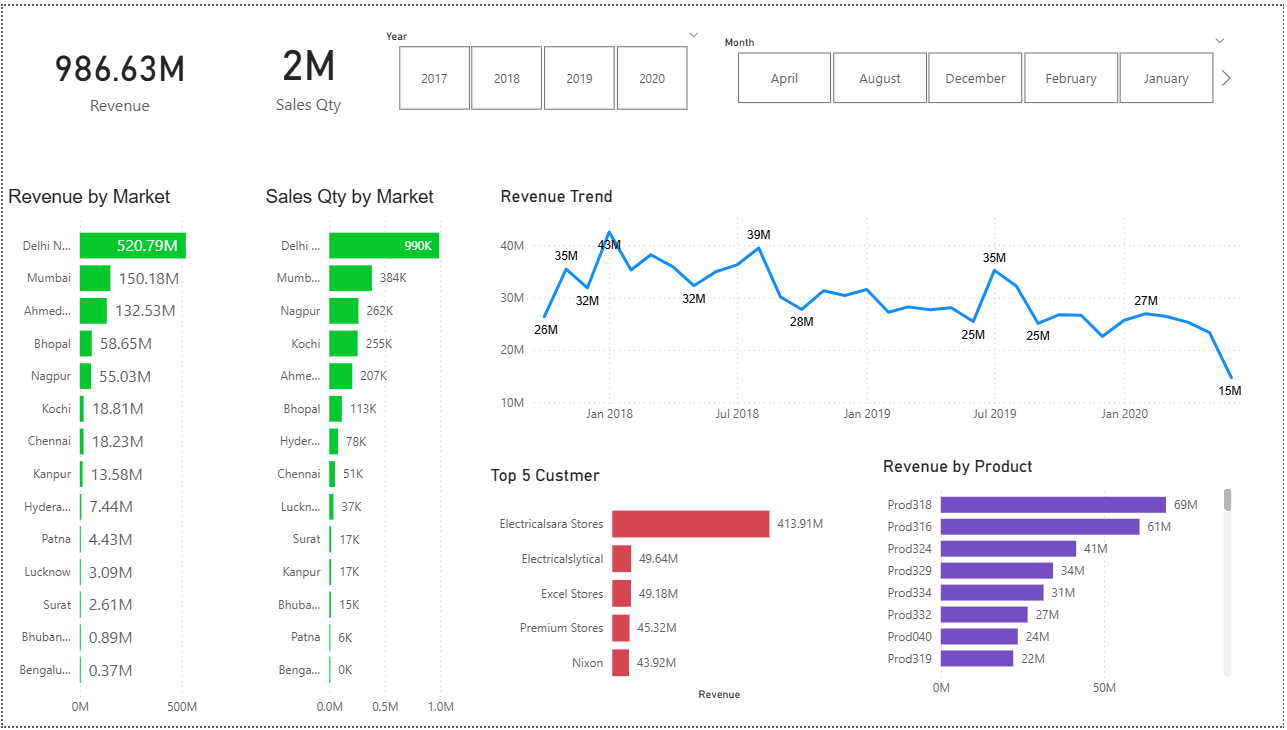

This screenshot's page, from the dashboard's own definition file:
{"tool":"powerbi","page":{"name":"Page 1","canvas":[1280,720],"ordinal":0},"visuals":[{"type":"card","fields":{"Values":["basemeasures.Sales Qty"]},"box":[213.8,0,183.8,131.2],"z":0},{"type":"card","fields":{"Values":["basemeasures.Revenue"]},"box":[10,8.8,213.8,122.5],"z":1000},{"type":"barChart","title":"Revenue by Market","fields":{"Y":["basemeasures.Revenue"],"Category":["sales markets.markets_name"]},"box":[0,180.2,257,539.5],"z":2000},{"type":"barChart","title":"Sales Qty by Market","fields":{"Y":["basemeasures.Sales Qty"],"Category":["sales markets.markets_name"]},"box":[257,180.2,225.6,539.5],"z":3000},{"type":"slicer","fields":{"Values":["sales date.year"]},"box":[369.8,18.6,338.4,91.9],"z":4000},{"type":"slicer","fields":{"Values":["sales date.month_name"]},"box":[708.1,25.6,525.6,79.1],"z":5000},{"type":"barChart","title":"Top 5 Custmer","fields":{"Category":["sales customers.custmer_name"],"Y":["basemeasures.Revenue"]},"box":[482.5,458.8,346.2,241.2],"z":6000},{"type":"barChart","title":"Revenue by Product","fields":{"Y":["basemeasures.Revenue"],"Category":["sales transactions.product_code"]},"box":[875,450,358.8,250],"z":7000},{"type":"lineChart","title":"Revenue Trend","fields":{"Category":["sales date.cy_date.Variation.Date Hierarchy.Year","sales date.cy_date.Variation.Date Hierarchy.Quarter","sales date.cy_date.Variation.Date Hierarchy.Month","sales date.cy_date.Variation.Date Hierarchy.Day"],"Y":["basemeasures.Revenue"]},"box":[493,180.2,765.1,246.5],"z":8000}]}

Visuals, with their boxes in screenshot pixels (x1, y1, x2, y2), scaled from the page's 1280x720 canvas onto the 1287x730 screenshot:
card - basemeasures.Sales Qty: <box>215,0,400,133</box>
card - basemeasures.Revenue: <box>10,9,225,133</box>
"Revenue by Market" barChart: <box>0,183,258,729</box>
"Sales Qty by Market" barChart: <box>258,183,485,729</box>
slicer - sales date.year: <box>372,19,712,112</box>
slicer - sales date.month_name: <box>712,26,1240,106</box>
"Top 5 Custmer" barChart: <box>485,465,833,710</box>
"Revenue by Product" barChart: <box>880,456,1241,710</box>
"Revenue Trend" lineChart: <box>496,183,1265,433</box>
